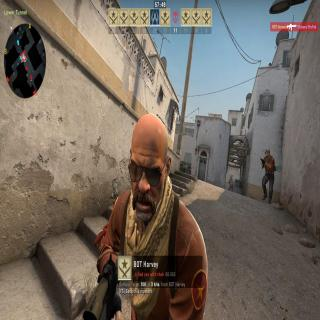T-Body: (93, 115, 207, 316), (260, 147, 276, 204), (228, 175, 234, 191)
T-Head: (128, 117, 170, 210), (265, 148, 270, 157), (230, 176, 232, 180)
